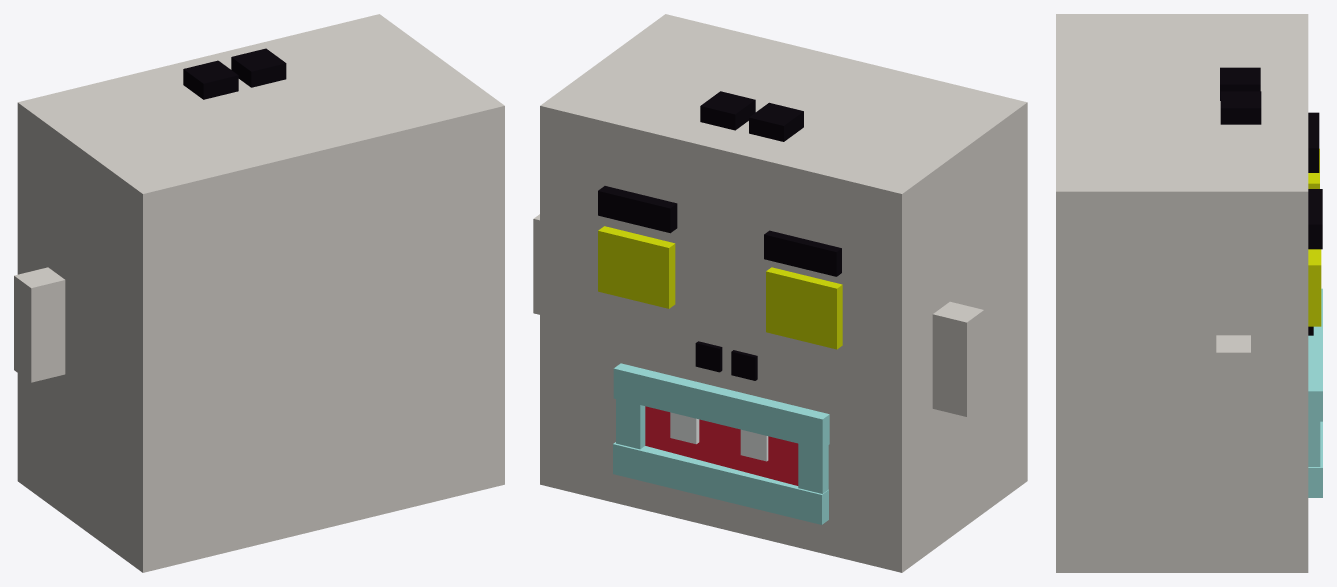
File: zombie _blanco.fbx
3 renders of one model, left to right at view 1: azimuth 30°, elevation 25°; view 2: azimuth 150°, elevation 25°; view 3: azimuth 270°, elevation 25°, orthographic.
Visible parts, largest first — view 1: Plano; view 2: Plano; view 3: Plano.
Boxes of the visible parts, box(x1,y1,x2,y2) form: Plano: box(14, 14, 504, 572); Plano: box(533, 14, 1027, 572); Plano: box(1056, 14, 1322, 572).
Size of the model in its own units: 238 by 208 by 127.
